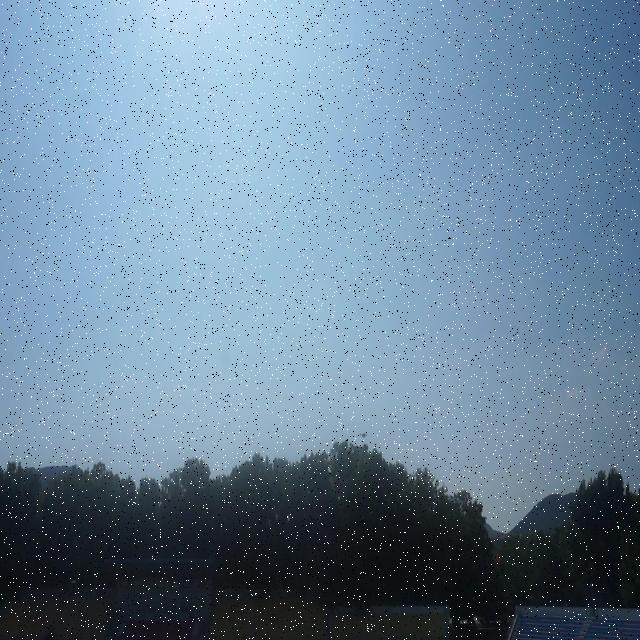UAV: (360, 432, 367, 438)
